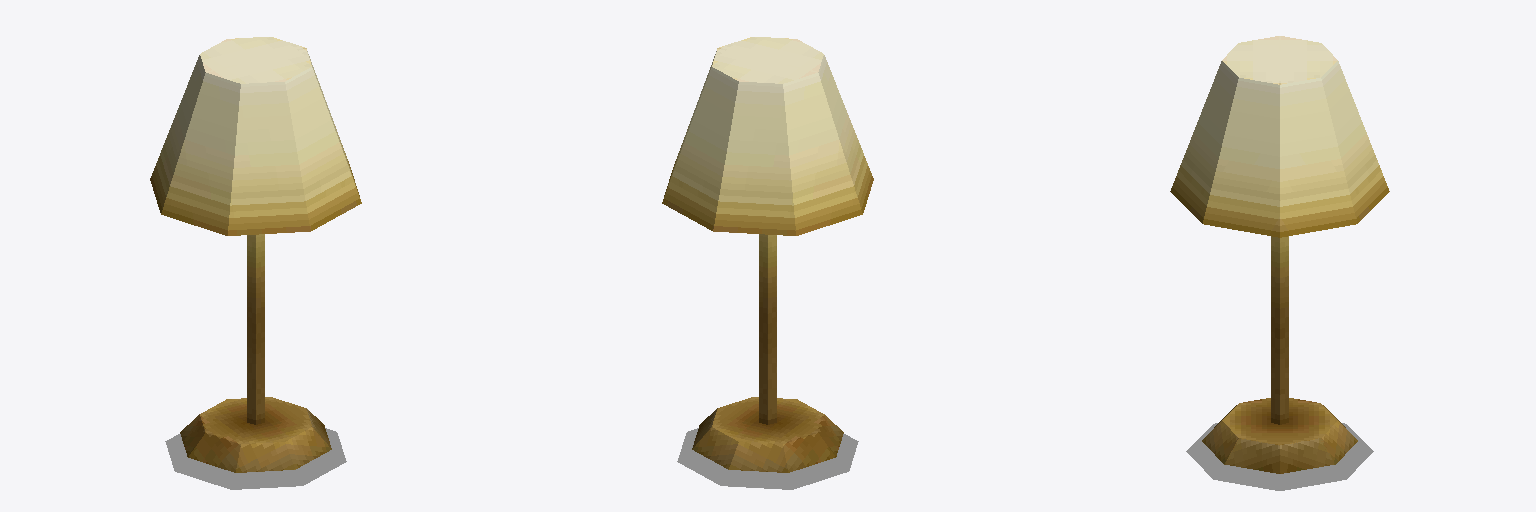
3 renders of one model, left to right at view 1: azimuth 30°, elevation 25°; view 2: azimuth 150°, elevation 25°; view 3: azimuth 270°, elevation 25°, orthographic.
Visible parts, largest first — view 1: onborolight_1, onborolight; view 2: onborolight_1, onborolight; view 3: onborolight_1, onborolight, onborolight_2.
Boxes of the visible parts, <box> form: onborolight_1: <box>150,37,361,472</box>; onborolight: <box>165,428,346,489</box>; onborolight_1: <box>662,37,873,472</box>; onborolight: <box>677,428,858,489</box>; onborolight_1: <box>1170,36,1389,464</box>; onborolight: <box>1186,423,1373,490</box>; onborolight_2: <box>1225,438,1333,473</box>.
Size of the model in its own units: 1.27 by 2.49 by 1.27.
3 materials, 2 textured.